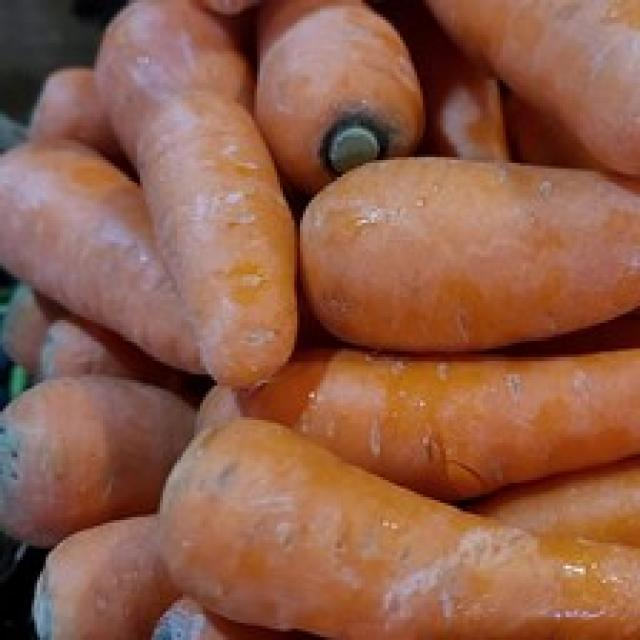Fresh_Carrot: (163, 423, 631, 640), (102, 21, 274, 330), (317, 166, 640, 311)
